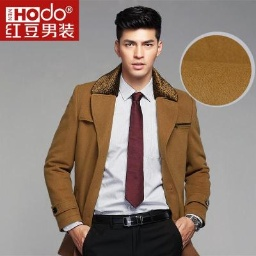face: (115, 5, 164, 77)
